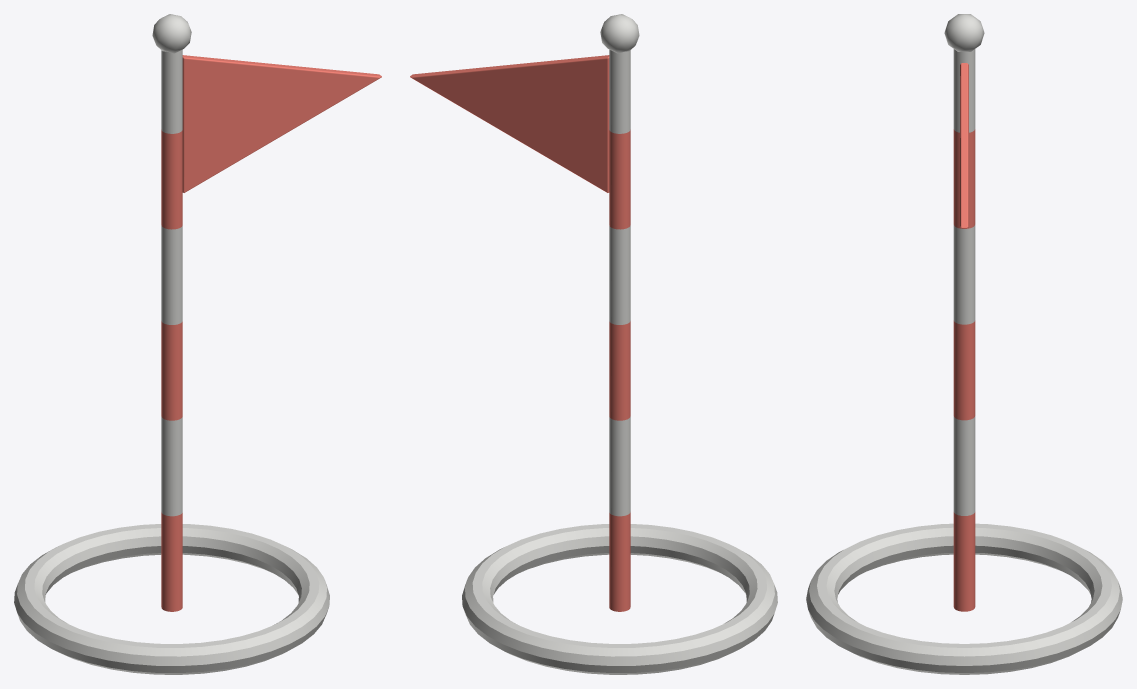
Rendered from flag.glb.
The picture shows the model from 3 angles, left to right: view 1: azimuth 30°, elevation 25°; view 2: azimuth 150°, elevation 25°; view 3: azimuth 270°, elevation 25°; orthographic projection.
Visible parts, largest first — view 1: cupRim, pennant, poleSeg1, poleSeg2, poleSeg4, poleSeg0, poleSeg3, poleSeg5, knob; view 2: cupRim, pennant, poleSeg1, poleSeg2, poleSeg4, poleSeg0, poleSeg3, poleSeg5, knob; view 3: cupRim, poleSeg2, poleSeg1, poleSeg0, poleSeg3, pennant, poleSeg4, poleSeg5, knob.
Boxes of the visible parts, x1=… form: cupRim: x1=14, y1=524, x2=329, y2=674; pennant: x1=182, y1=55, x2=381, y2=192; poleSeg1: x1=161, y1=416, x2=182, y2=516; poleSeg2: x1=161, y1=321, x2=182, y2=420; poleSeg4: x1=161, y1=129, x2=182, y2=229; poleSeg0: x1=161, y1=512, x2=182, y2=611; poleSeg3: x1=161, y1=225, x2=182, y2=324; poleSeg5: x1=161, y1=50, x2=182, y2=133; knob: x1=152, y1=14, x2=191, y2=53; cupRim: x1=462, y1=524, x2=777, y2=674; pennant: x1=410, y1=55, x2=609, y2=192; poleSeg1: x1=609, y1=416, x2=630, y2=516; poleSeg2: x1=609, y1=321, x2=630, y2=420; poleSeg4: x1=609, y1=129, x2=630, y2=229; poleSeg0: x1=609, y1=512, x2=630, y2=611; poleSeg3: x1=609, y1=225, x2=630, y2=324; poleSeg5: x1=609, y1=50, x2=630, y2=133; knob: x1=600, y1=14, x2=639, y2=53; cupRim: x1=806, y1=523, x2=1122, y2=674; poleSeg2: x1=953, y1=320, x2=975, y2=420; poleSeg1: x1=953, y1=416, x2=975, y2=515; poleSeg0: x1=953, y1=512, x2=975, y2=611; poleSeg3: x1=953, y1=225, x2=975, y2=324; pennant: x1=960, y1=63, x2=968, y2=228; poleSeg4: x1=953, y1=129, x2=975, y2=228; poleSeg5: x1=953, y1=49, x2=975, y2=132; knob: x1=944, y1=14, x2=984, y2=51.
Bounding box in the file's own units: 0.8952 × 1.48 × 0.71.
